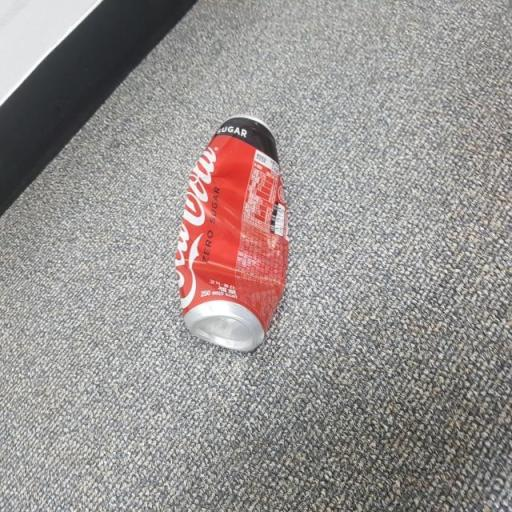metal: (161, 94, 312, 384)
